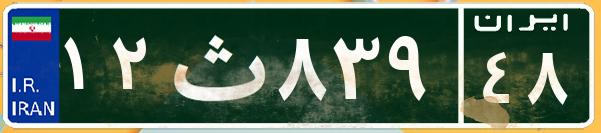1: (57, 26, 110, 107)
2: (110, 28, 158, 105)
3: (330, 28, 385, 110)
4: (475, 38, 525, 113)
8: (273, 28, 330, 110), (525, 38, 570, 115)
9: (385, 28, 445, 110)
ث: (158, 15, 273, 115)
